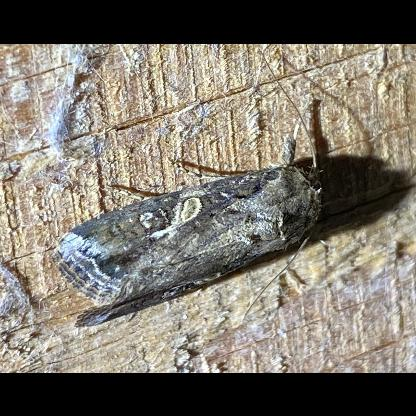Fall Armyworm Moth: (48, 46, 330, 332)
